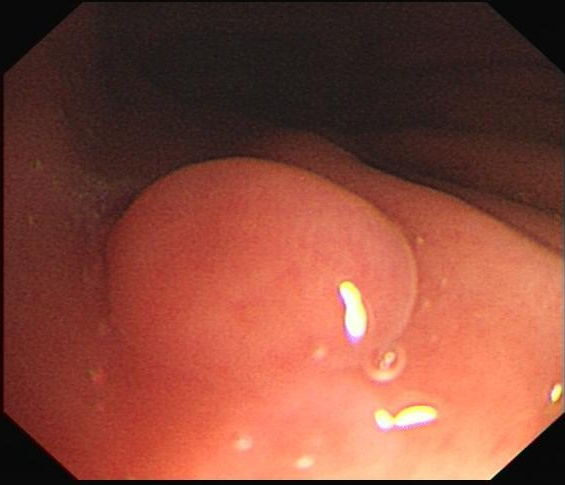Polyp: (99, 155, 424, 398)
